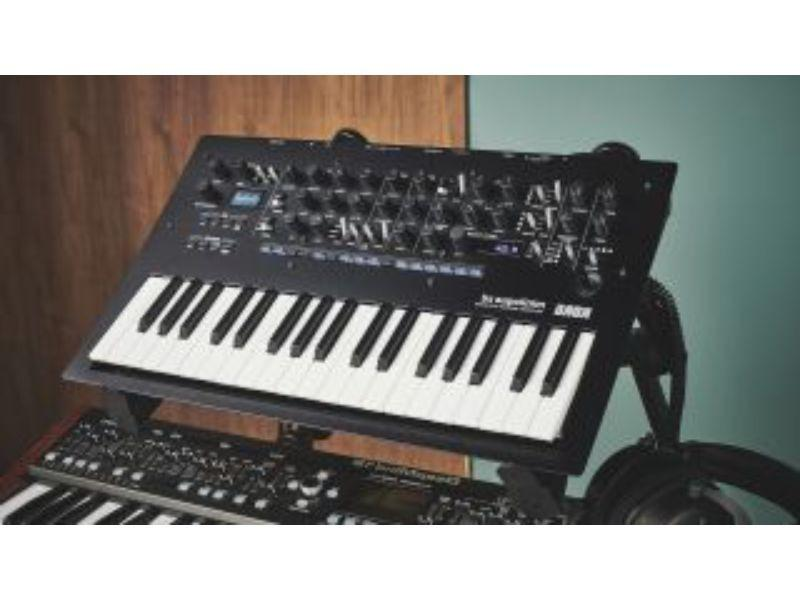synthesizer: (67, 121, 694, 462)
